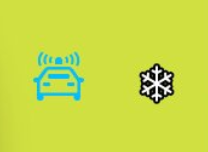EISSTERN: (134, 58, 180, 108)
SEV_INF: (28, 44, 91, 106)
